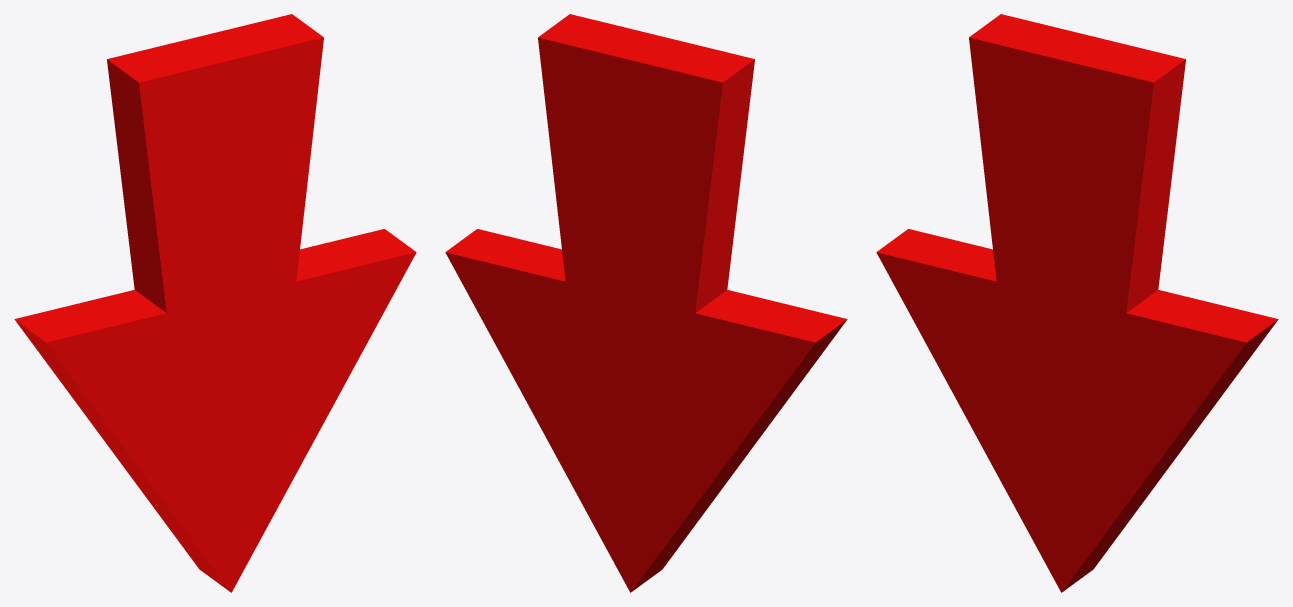
The picture shows the model from 3 angles, left to right: view 1: azimuth 30°, elevation 25°; view 2: azimuth 150°, elevation 25°; view 3: azimuth 330°, elevation 25°; orthographic projection.
Visible parts, largest first — view 1: Arrow_symbol_01; view 2: Arrow_symbol_01; view 3: Arrow_symbol_01.
Part boxes in pixels (x1,y1,x2,y2): Arrow_symbol_01: [14, 14, 416, 592]; Arrow_symbol_01: [445, 14, 847, 592]; Arrow_symbol_01: [876, 14, 1278, 592].
Size of the model in its own units: 80 by 110 by 12.01.
